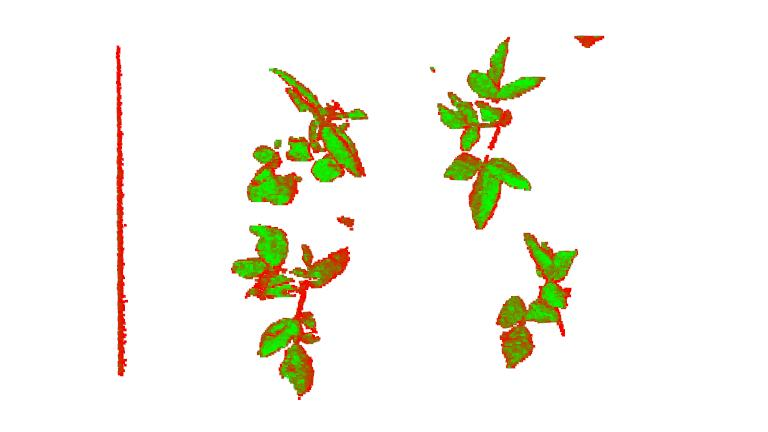mungbean: (230, 219, 347, 404), (439, 36, 544, 232), (241, 66, 374, 204), (494, 226, 581, 370)
